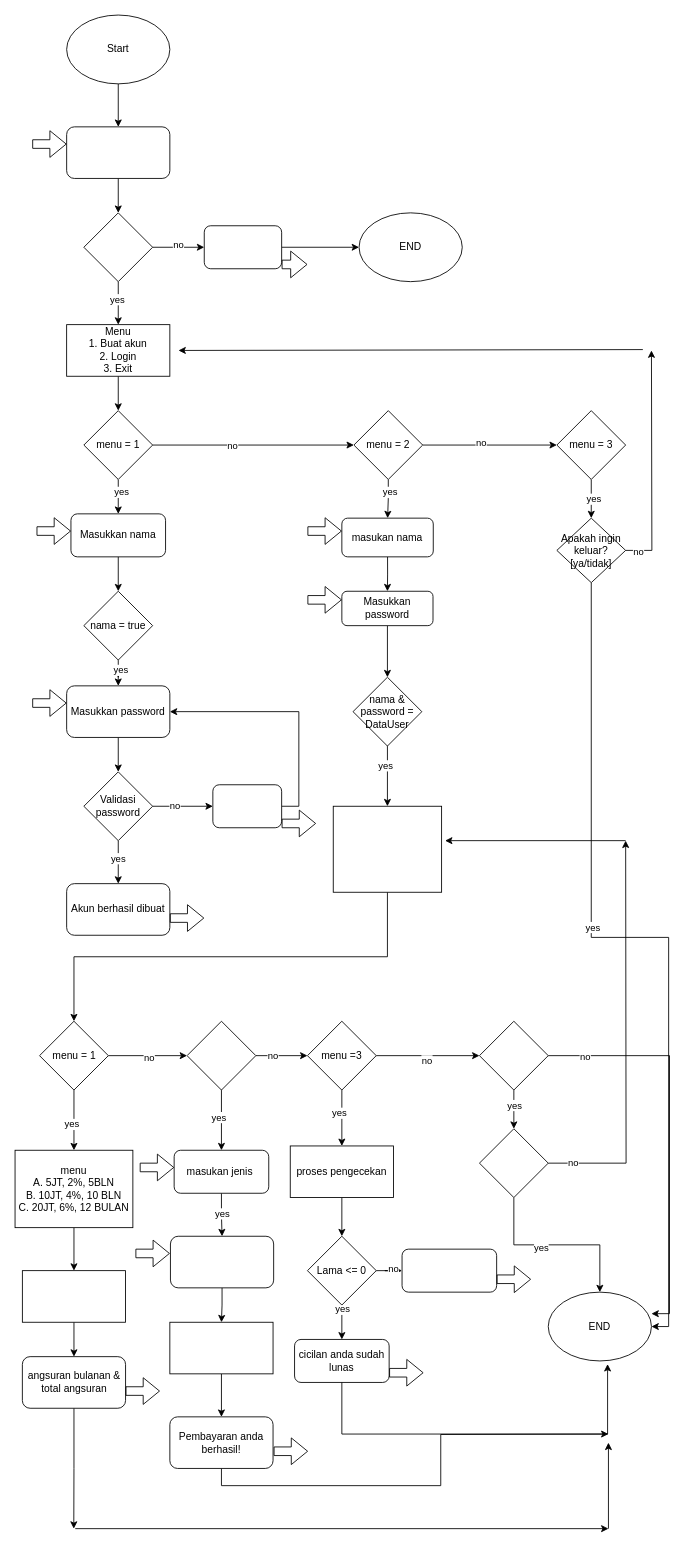
Some shapes in this 691 by 1551 pixel diagram are drawn without their labels. The box of each missing label's shape, as (x1, y1, x2, y2) in pixels:
18 < umur < 66: (83, 212, 153, 282)
apakah yakin: (479, 1128, 548, 1198)
masukan lama bulan: (170, 1235, 274, 1288)
Masukkan umur: (66, 126, 170, 178)
menampilkan sisa cicilan: (401, 1248, 497, 1292)
menu = 4: (479, 1020, 548, 1090)
Menu: 1. Buat Pinjaman 2. Bayar cicilan 3. Informasi cicilan 4. Exit: (332, 805, 442, 892)
menu=2: (186, 1020, 256, 1090)
Passwrord lemah: (212, 784, 282, 828)
Pokok + (pokok * bunga) ^ lama: (22, 1270, 126, 1322)
Proses pengecekan dan perhitungan pembayaran: (169, 1321, 273, 1374)
Umur tidak mencukupi: (203, 225, 282, 269)
